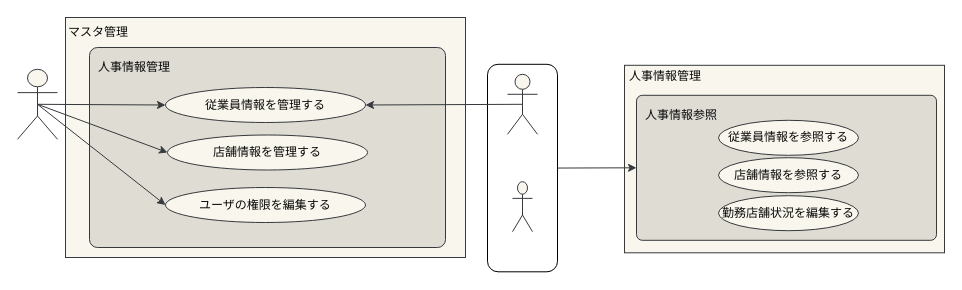
This 962x290 diagram has some shape labels left out. Here are the shapes that lost their labels. From the top down, the box of each, then its label:
(16, 68, 58, 139): 管理者
(506, 73, 538, 134): 正規社員
(512, 181, 532, 232): 非正規社員
